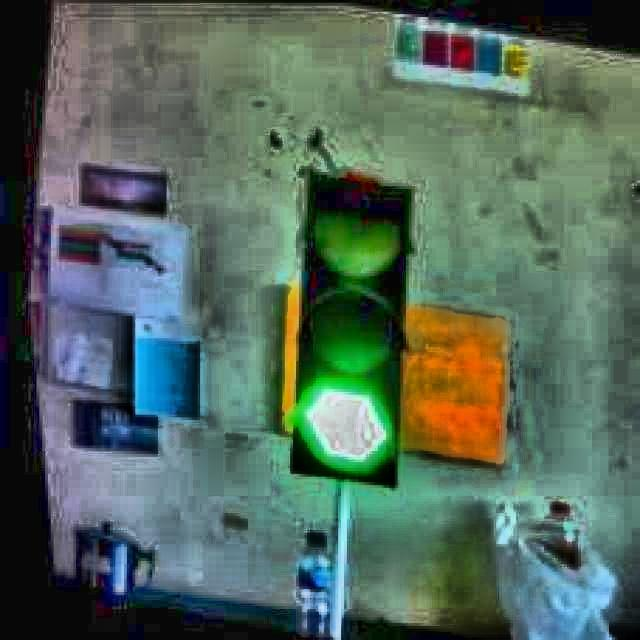green: (292, 159, 406, 489)
